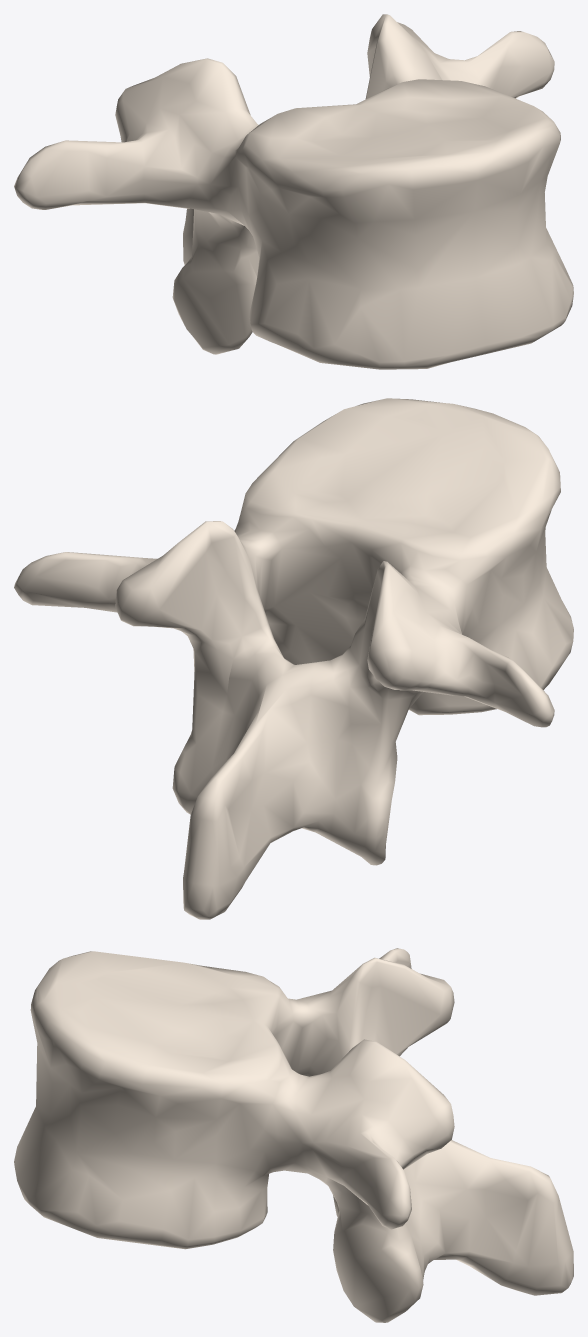
3 views of the same model, one above another, from view 1: azimuth 30°, elevation 25°; view 2: azimuth 150°, elevation 25°; view 3: azimuth 270°, elevation 25° (orthographic). The views are drawn at different scales.
Parts seen in each view (by area): view 1: Lumbar vertebrae (L2); view 2: Lumbar vertebrae (L2); view 3: Lumbar vertebrae (L2).
Part boxes in pixels (box(x1,y1,x2,y2)): Lumbar vertebrae (L2): box(14, 14, 573, 369); Lumbar vertebrae (L2): box(14, 398, 573, 919); Lumbar vertebrae (L2): box(14, 948, 573, 1322).
Size of the model in its own units: 0.087 by 0.0491 by 0.0823.
